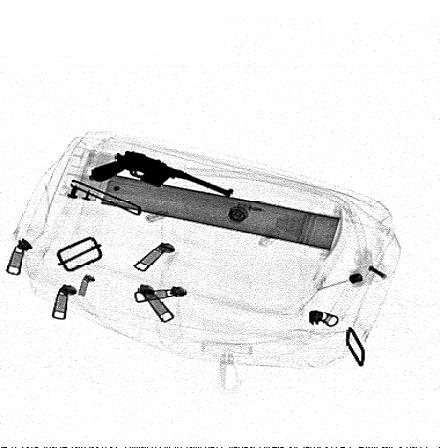Gun: (89, 147, 237, 200)
